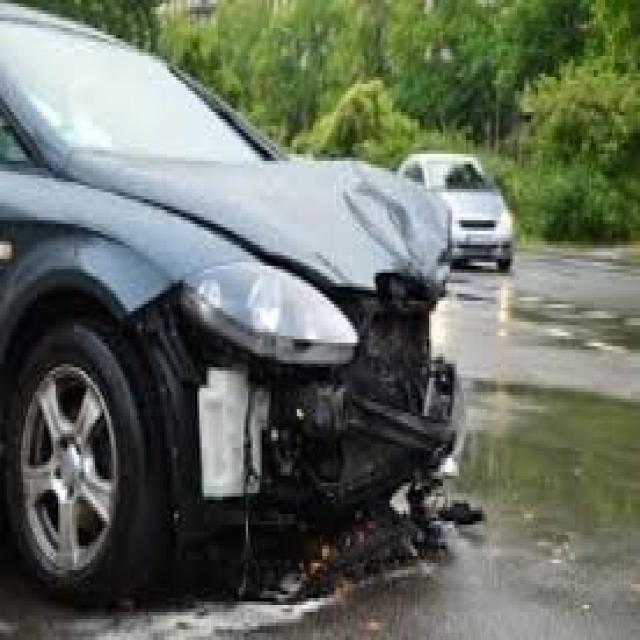accident: (29, 23, 493, 602)
